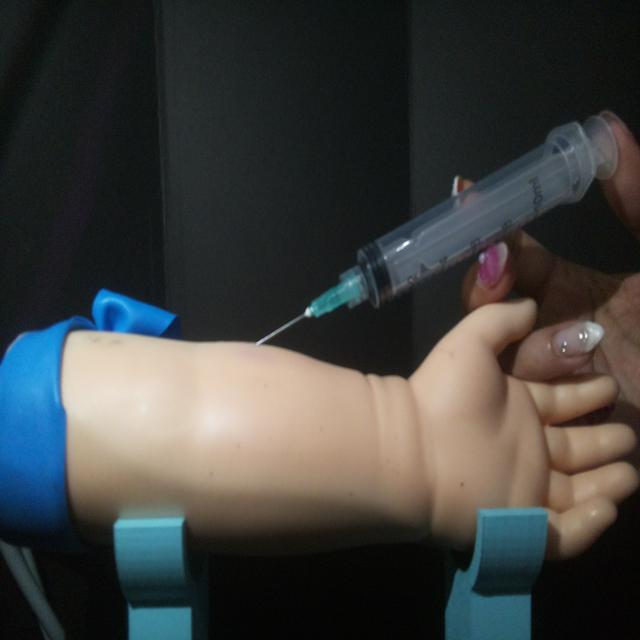26deg: (249, 106, 622, 350)
